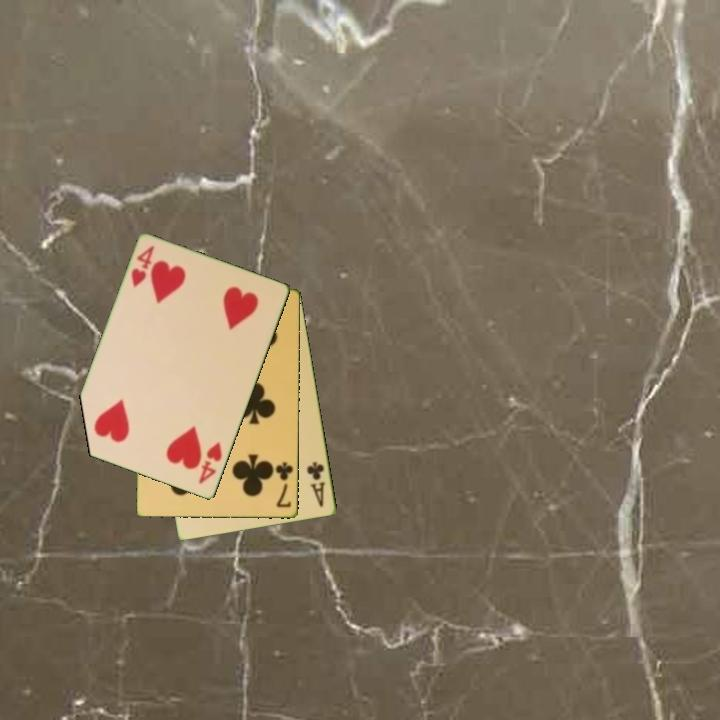4h: (128, 242, 158, 291), (195, 439, 225, 487)
7c: (272, 458, 296, 511)
Ac: (304, 458, 329, 510)
